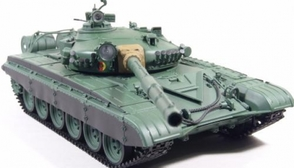t72: (2, 8, 294, 161)
